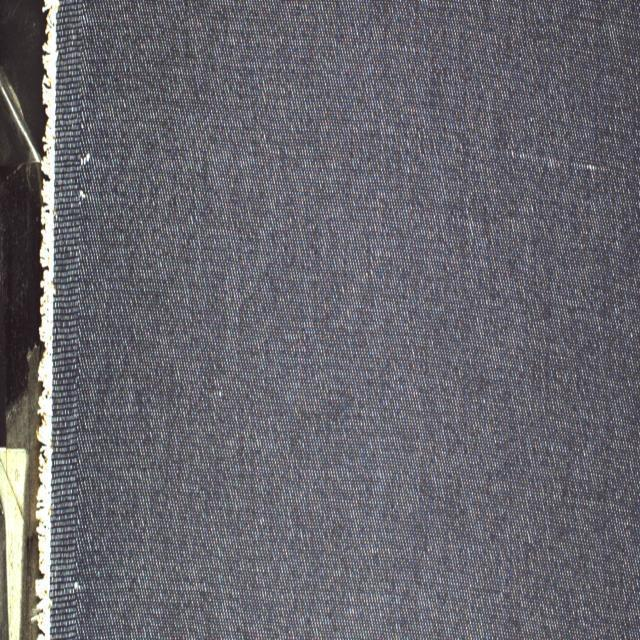pulled_or_thick_thread: (488, 139, 632, 208), (71, 132, 97, 221)
